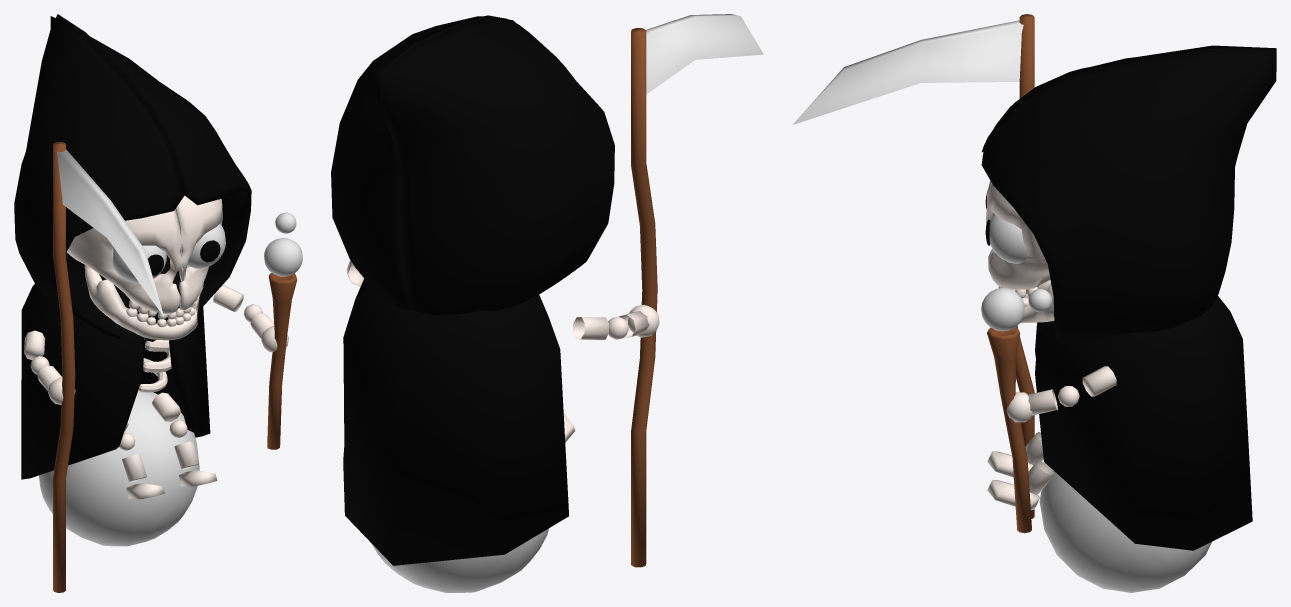
File: Death.fbx
The picture shows the model from 3 angles, left to right: view 1: azimuth 30°, elevation 25°; view 2: azimuth 150°, elevation 25°; view 3: azimuth 270°, elevation 25°; orthographic projection. The views are drawn at different scales.
Parts seen in each view (by area): view 1: Plane.031, Cylinder.022, Icosphere.009, Cube.015, Plane.027, Cube.018, Cube.014, Icosphere.015, Icosphere.008, Icosphere.013, Cylinder.025, Cylinder.029 (+5 smaller); view 2: Plane.031, Cylinder.022, Cube.015, Icosphere.009, Cylinder.030; view 3: Plane.031, Cylinder.022, Cube.015, Icosphere.009, Cube.018, Plane.027, Icosphere.015, Icosphere.008, Cylinder.029, Cube.017.
Boxes of the visible parts, left/top/right/bottom form: Plane.031: left=14, top=14, right=251, bottom=343; Cylinder.022: left=21, top=257, right=210, bottom=479; Icosphere.009: left=39, top=390, right=199, bottom=546; Cube.015: left=53, top=141, right=163, bottom=592; Plane.027: left=67, top=195, right=222, bottom=314; Cube.018: left=267, top=273, right=297, bottom=449; Cube.014: left=84, top=265, right=203, bottom=340; Icosphere.015: left=264, top=238, right=302, bottom=276; Icosphere.008: left=177, top=221, right=225, bottom=268; Icosphere.013: left=112, top=245, right=166, bottom=282; Cylinder.025: left=152, top=392, right=180, bottom=421; Cylinder.029: left=213, top=285, right=243, bottom=311; Plane.031: left=331, top=15, right=614, bottom=314; Cylinder.022: left=343, top=278, right=568, bottom=565; Cube.015: left=631, top=14, right=763, bottom=567; Icosphere.009: left=371, top=528, right=548, bottom=592; Cylinder.030: left=573, top=317, right=608, bottom=339; Plane.031: left=981, top=45, right=1276, bottom=342; Cylinder.022: left=1035, top=296, right=1252, bottom=550; Cube.015: left=793, top=14, right=1034, bottom=518; Icosphere.009: left=1039, top=470, right=1211, bottom=592; Cube.018: left=987, top=327, right=1031, bottom=533; Plane.027: left=986, top=180, right=1049, bottom=289; Icosphere.015: left=981, top=288, right=1024, bottom=331; Icosphere.008: left=989, top=214, right=1027, bottom=263; Cylinder.029: left=1082, top=366, right=1116, bottom=396; Cube.017: left=987, top=479, right=1040, bottom=510.
Size of the model in its own units: 296 by 535 by 437.
